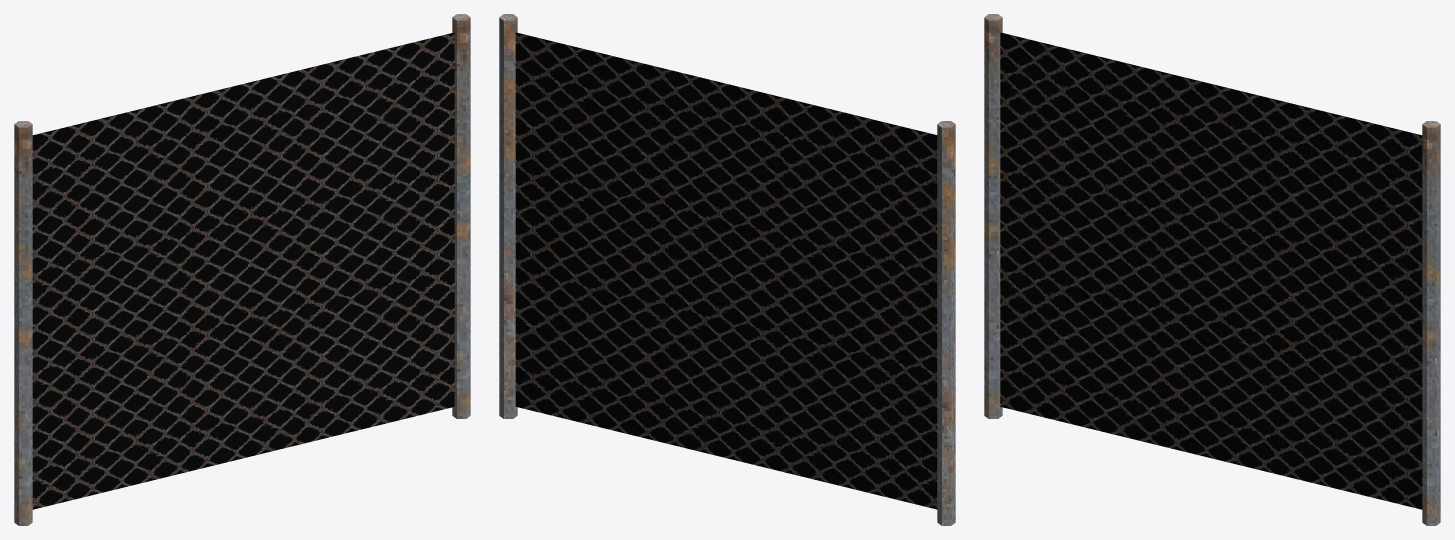
The model's file is fence.glb.
The picture shows the model from 3 angles, left to right: view 1: azimuth 30°, elevation 25°; view 2: azimuth 150°, elevation 25°; view 3: azimuth 330°, elevation 25°; orthographic projection.
Parts seen in each view (by area): view 1: Plane, Cylinder, Cylinder.001; view 2: Plane, Cylinder, Cylinder.001; view 3: Plane, Cylinder.001, Cylinder.
Boxes of the visible parts, x1=… form: Plane: x1=32, y1=32, x2=454, y2=509; Cylinder: x1=14, y1=121, x2=32, y2=525; Cylinder.001: x1=452, y1=14, x2=470, y2=418; Plane: x1=515, y1=32, x2=937, y2=509; Cylinder: x1=937, y1=121, x2=955, y2=525; Cylinder.001: x1=499, y1=14, x2=517, y2=418; Plane: x1=1000, y1=32, x2=1422, y2=509; Cylinder.001: x1=1422, y1=121, x2=1440, y2=525; Cylinder: x1=984, y1=14, x2=1002, y2=418.
Bounding box in the file's own units: 5.62 × 4.74 × 0.2.
Materials: 2 (2 with a texture image).
